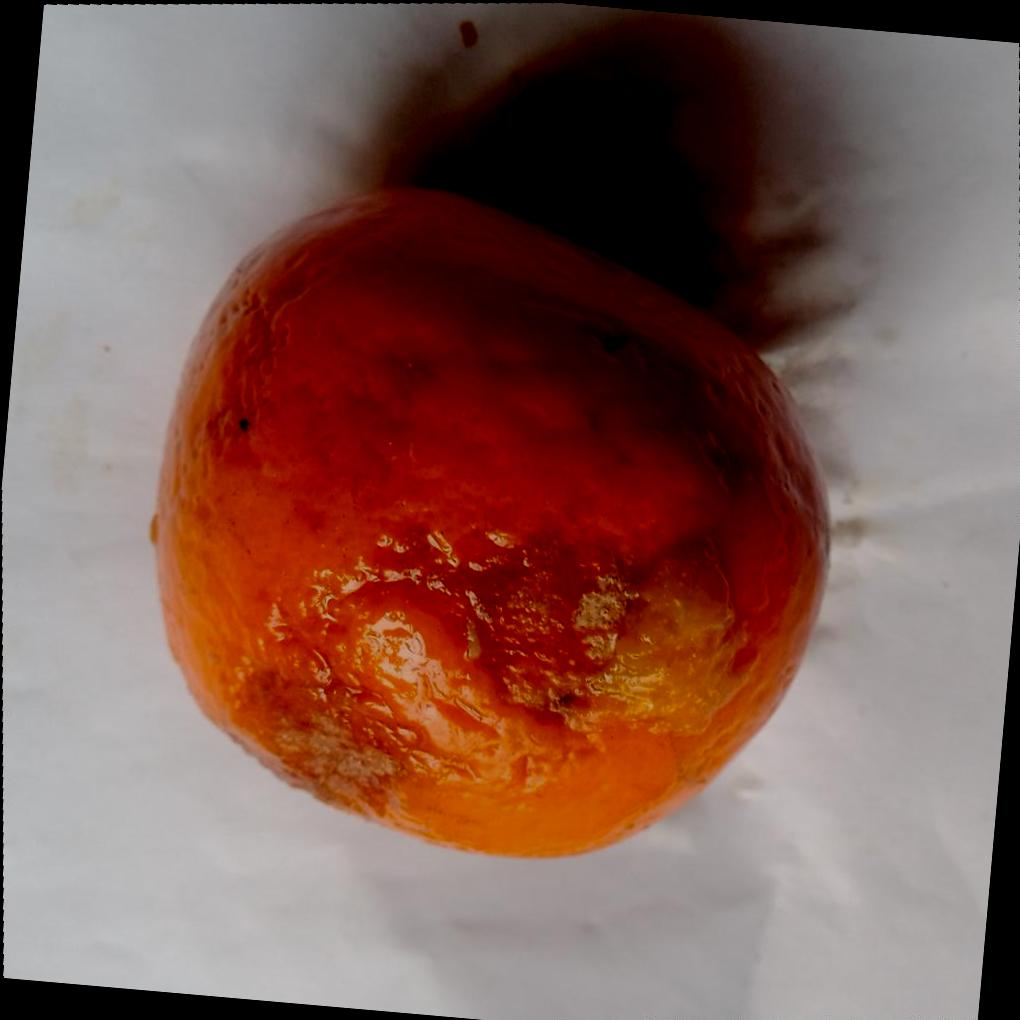FreshOrange: (144, 182, 828, 860)
